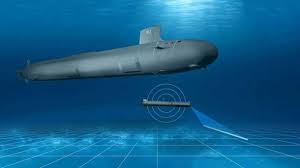Submarine: (20, 25, 217, 81)
